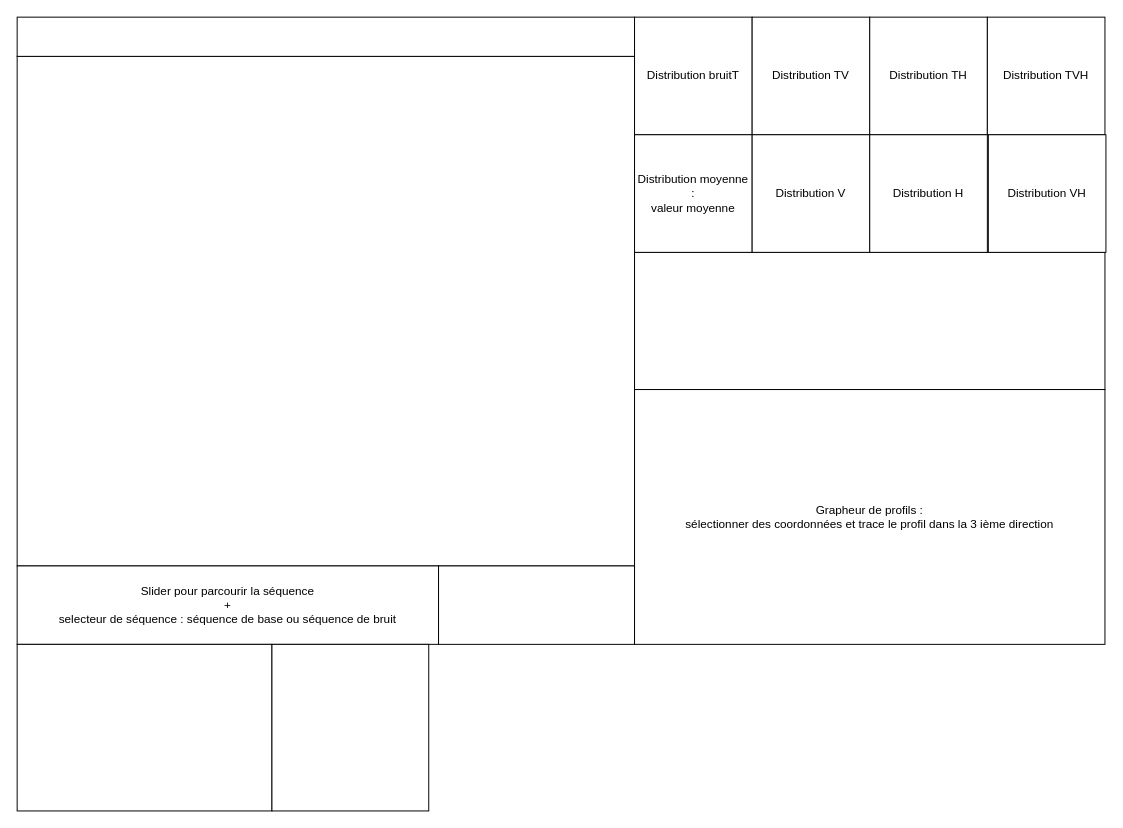
Image size: 1123x828. Some labels were removed from this diagram. Here are the shapes that lost their labels. From the top down, the box of each, then its label:
(16, 16, 635, 56): Chemin vers séquence : AAaAAAAAAAAAAAAaAAaAAAAAAAAAAAAaAAaAAAAAAAAAAAAa
(16, 55, 635, 566): Images séquence
(634, 251, 1105, 390): Résultats des mesures de bruit :
(438, 565, 635, 644): Color picker : picker T, V, H valeur du pixel sélectioné
(16, 643, 272, 811): Carte de masque
